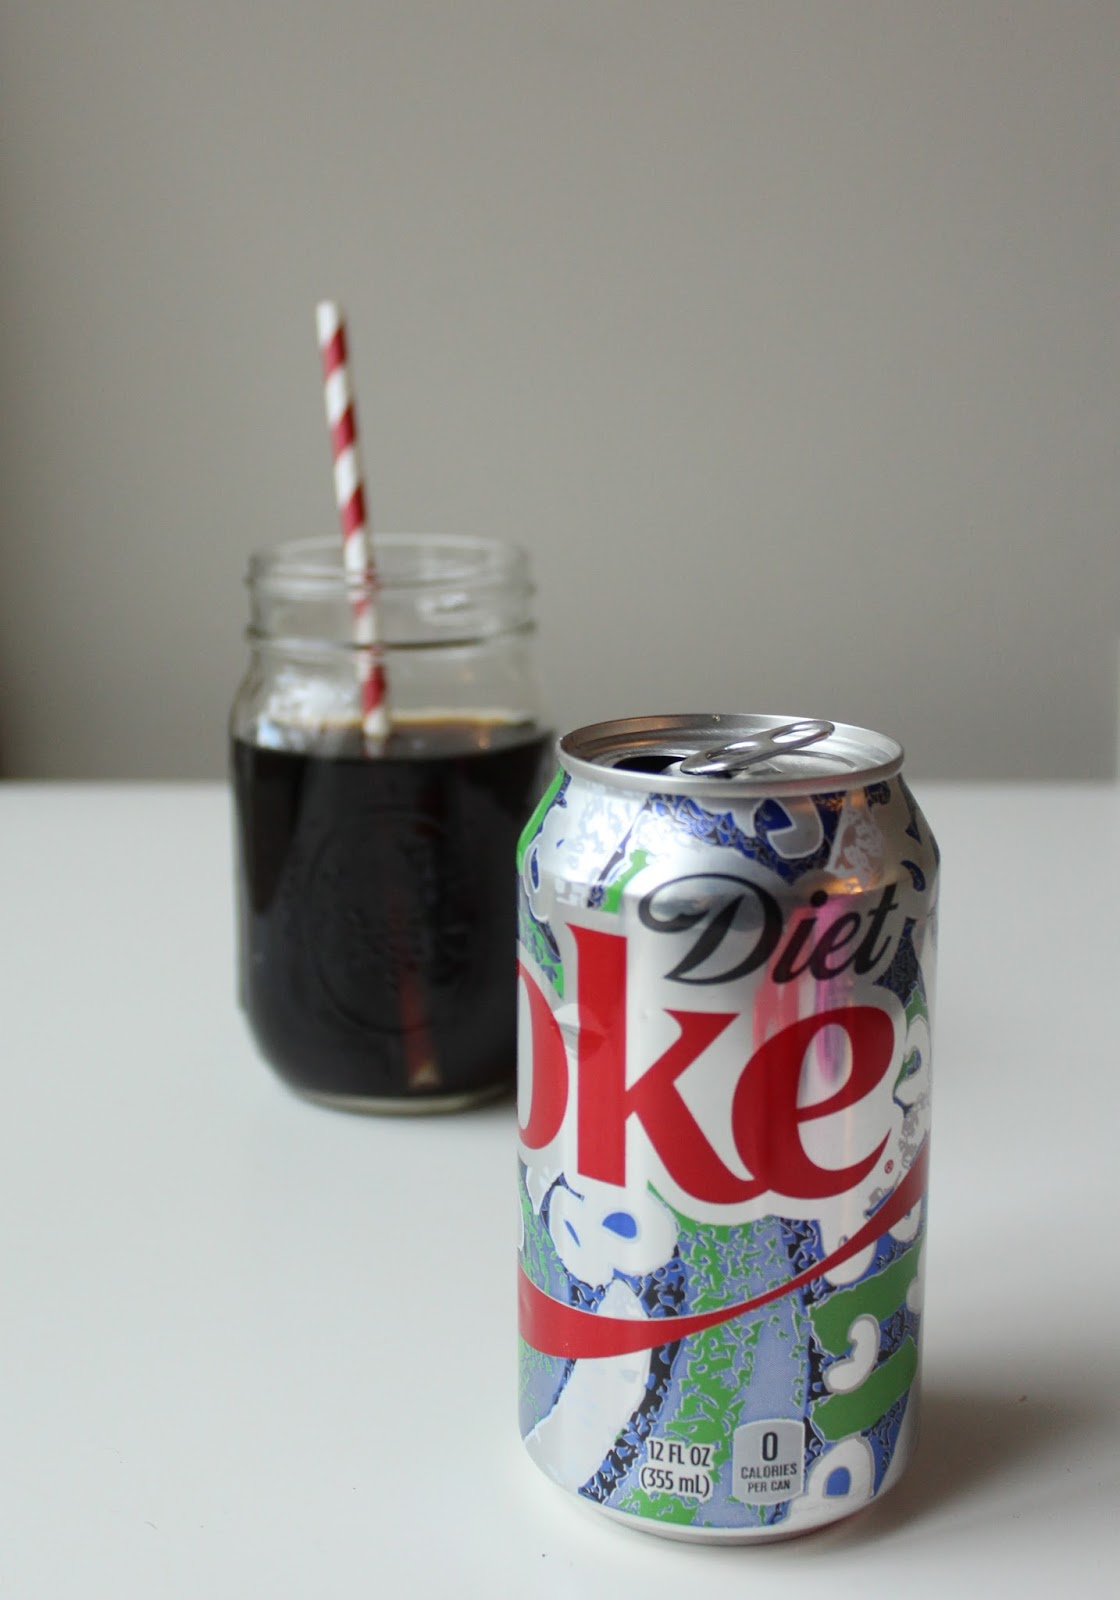can: (493, 703, 951, 1557)
